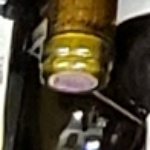bottle: (29, 33, 123, 109)
